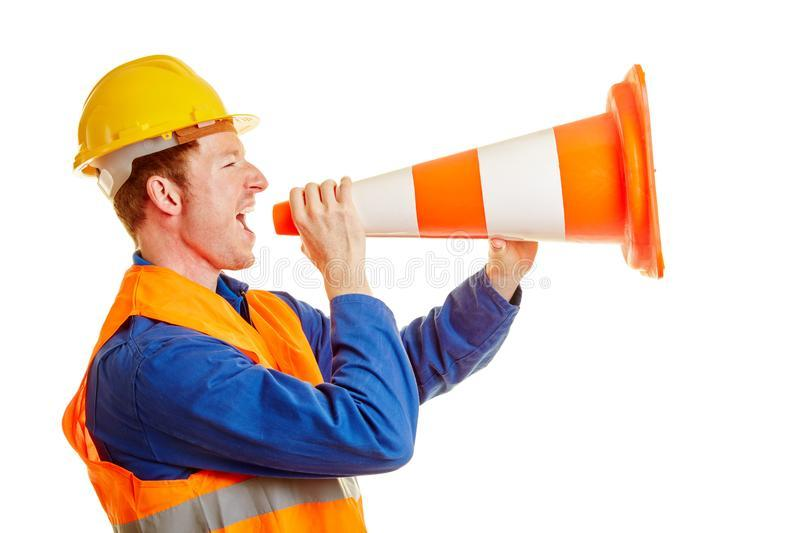helmet: (65, 57, 256, 173)
